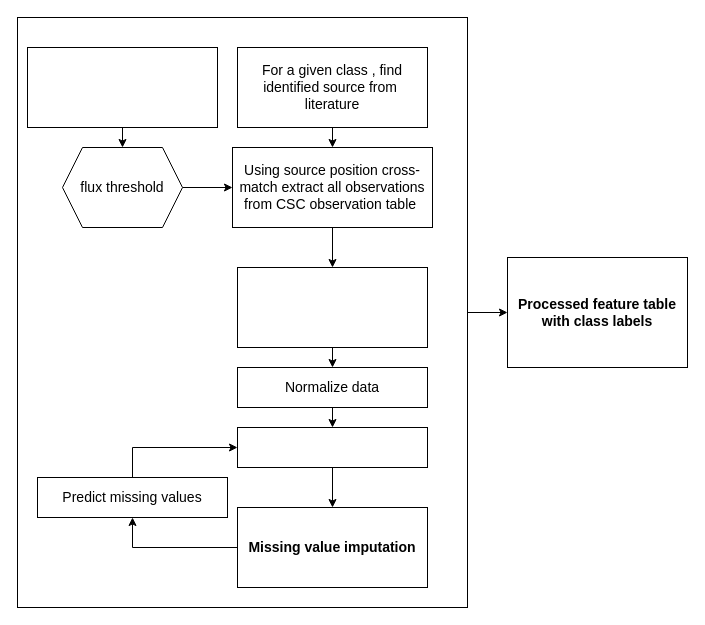
This 705x625 diagram has some shape labels left out. The shapes that lost their labels are listed below. From the top down, each one's box as (x1, y1, x2, y2) in pixels, then its label:
(26, 46, 218, 128): For all globular cluster sources in csc , find flux distribution
(236, 266, 428, 348): Filter observations
(236, 426, 428, 468): Updated feature table
